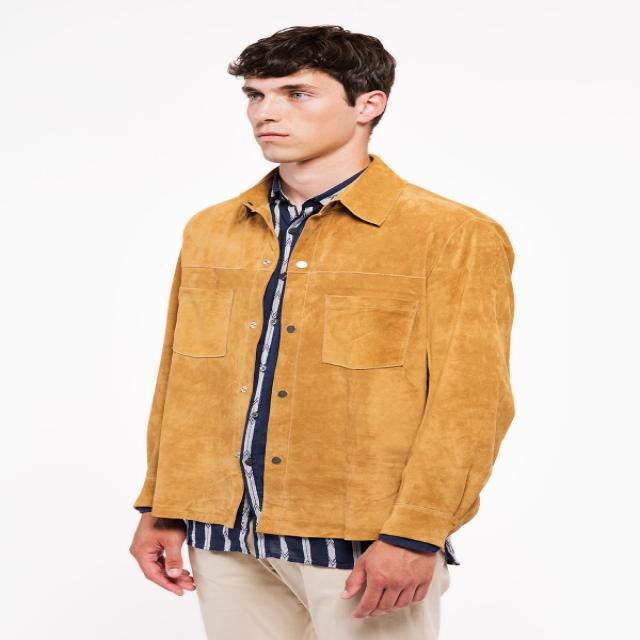human: (141, 19, 530, 638)
